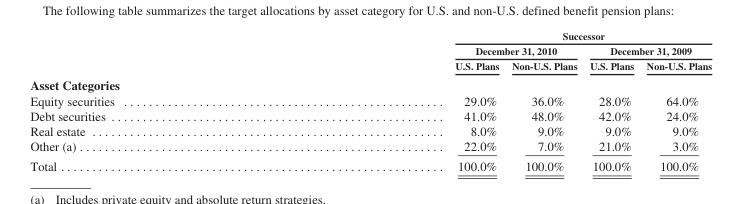table: (29, 29, 711, 172)
table column: (29, 29, 284, 172), (284, 29, 504, 172), (504, 29, 582, 172), (639, 29, 711, 172), (582, 29, 639, 172)
table column header: (29, 29, 711, 74)
table projected row header: (29, 74, 711, 92)
table row: (29, 74, 711, 92), (29, 138, 711, 155), (29, 155, 711, 172), (29, 42, 711, 58), (29, 58, 711, 74), (29, 122, 711, 138), (29, 92, 711, 107), (29, 107, 711, 122), (29, 29, 711, 42)
table spanning cell: (284, 29, 711, 42), (284, 42, 582, 58), (582, 42, 711, 58)
